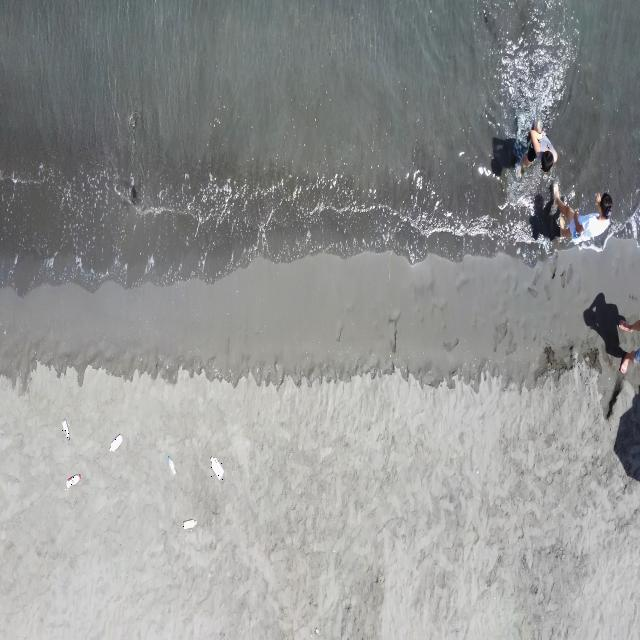plastic-bottle: (210, 454, 225, 481), (109, 434, 124, 455), (65, 474, 82, 490), (182, 518, 198, 532), (62, 418, 70, 442), (168, 454, 176, 477)
